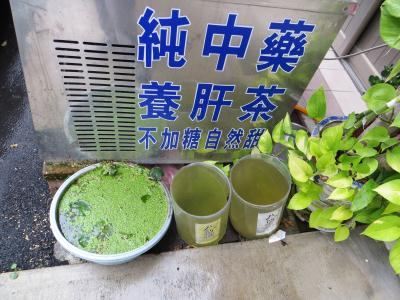bowl: (46, 159, 177, 268)
bucket: (229, 152, 293, 242), (169, 160, 234, 248)
